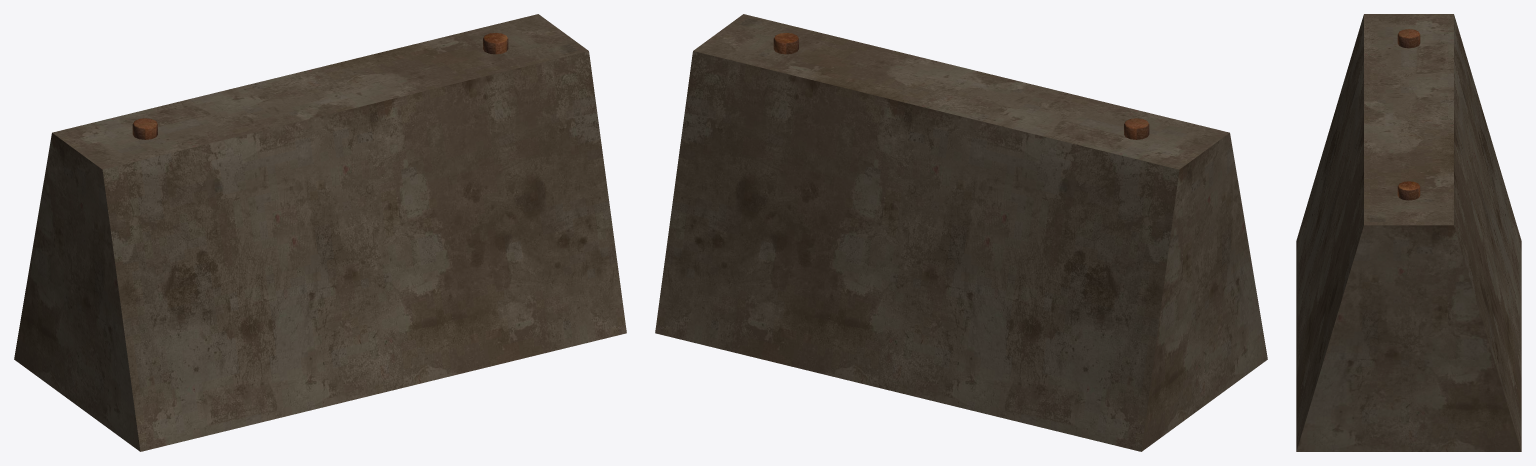
File: industrial-barrier.glb
3 renders of one model, left to right at view 1: azimuth 30°, elevation 25°; view 2: azimuth 150°, elevation 25°; view 3: azimuth 270°, elevation 25°, orthographic. The views are drawn at different scales.
Visible parts, largest first — view 1: industrial-barrier; view 2: industrial-barrier; view 3: industrial-barrier.
Part boxes in pixels (box(x1,y1,x2,y2)): industrial-barrier: box(14, 14, 626, 451); industrial-barrier: box(655, 14, 1267, 451); industrial-barrier: box(1296, 14, 1521, 451).
Size of the model in its own units: 2 by 1.04 by 0.9.
Materials: 3 (2 with a texture image).
